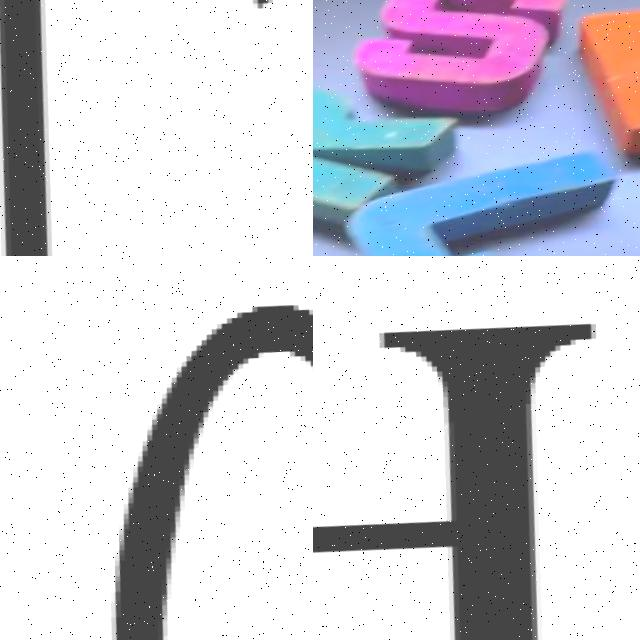0: (67, 274, 313, 640)
E: (551, 0, 640, 171)
H: (313, 322, 596, 640)
S: (352, 0, 581, 116)
T: (0, 0, 313, 256)
